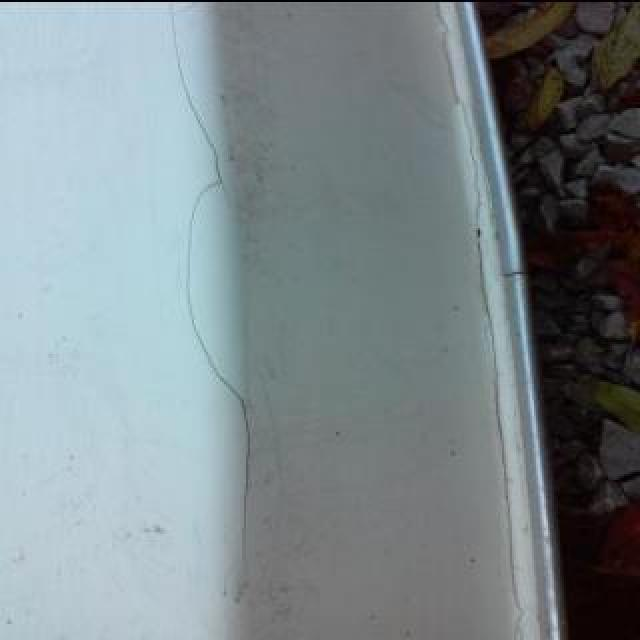crack: (434, 1, 530, 640), (169, 1, 257, 569)
